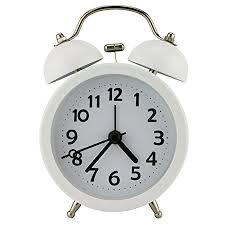alarm_clock: (40, 6, 189, 214)
